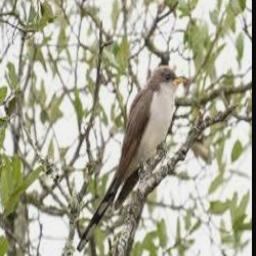Cuckoo: (76, 65, 184, 255)
